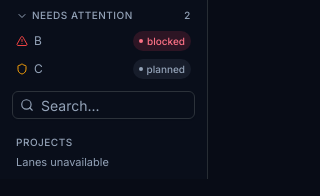
Test: header counters and attention collapse › a throwing localStorage still renders expanded and toggles
This screenshot has width=320, height=196.
Click the button with test id "attention-toggle": point(104, 16) [8,8,199,23]
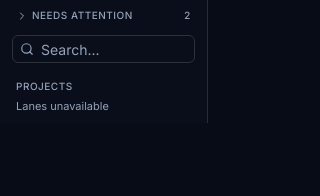
Now the button with test id "attention-toggle" is collapsed, box [8,8,199,23]
